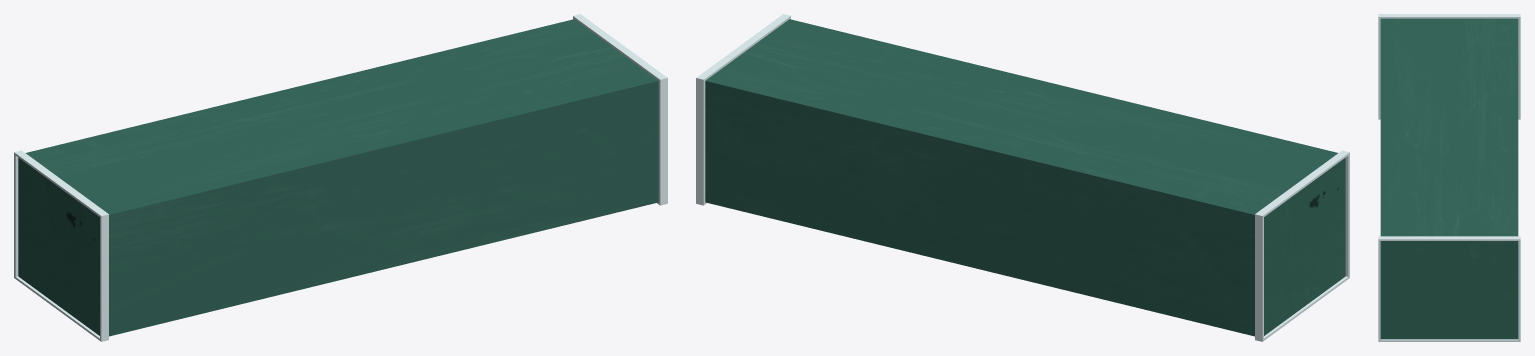
Rendered from Step floor.fbx.
3 renders of one model, left to right at view 1: azimuth 30°, elevation 25°; view 2: azimuth 150°, elevation 25°; view 3: azimuth 270°, elevation 25°, orthographic. The views are drawn at different scales.
Visible parts, largest first — view 1: 立方体, 立方体.001; view 2: 立方体, 立方体.001; view 3: 立方体, 立方体.001.
Part boxes in pixels (x1,y1,x2,y2): 立方体: [18, 19, 658, 336]; 立方体.001: [14, 14, 667, 341]; 立方体: [705, 19, 1345, 336]; 立方体.001: [696, 14, 1349, 341]; 立方体: [1380, 18, 1518, 339]; 立方体.001: [1378, 14, 1520, 341].
Bounding box in the file's own units: 909 × 193 × 243.
2 materials, 1 textured.
